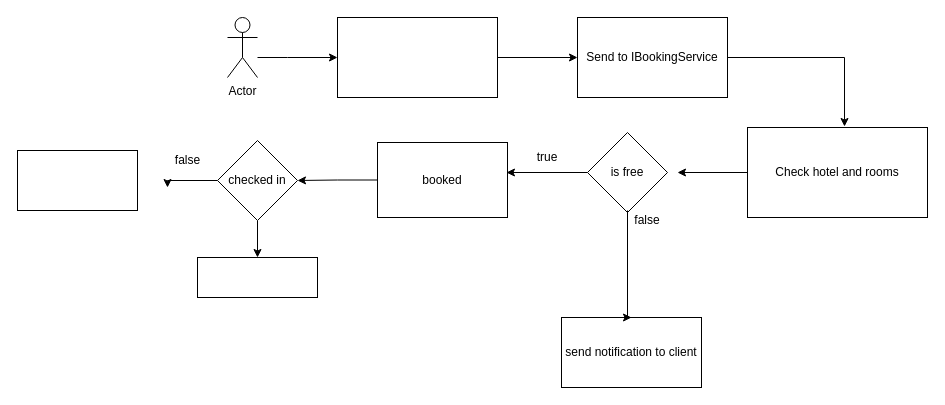
Some shapes in this 945 by 405 pixel diagram are drawn without their labels. Here are the shapes that lost their labels. From the top down, the box of each, then its label:
(336, 16, 498, 98): Generate order
(16, 150, 138, 210): make room state free
(196, 256, 318, 298): OK
